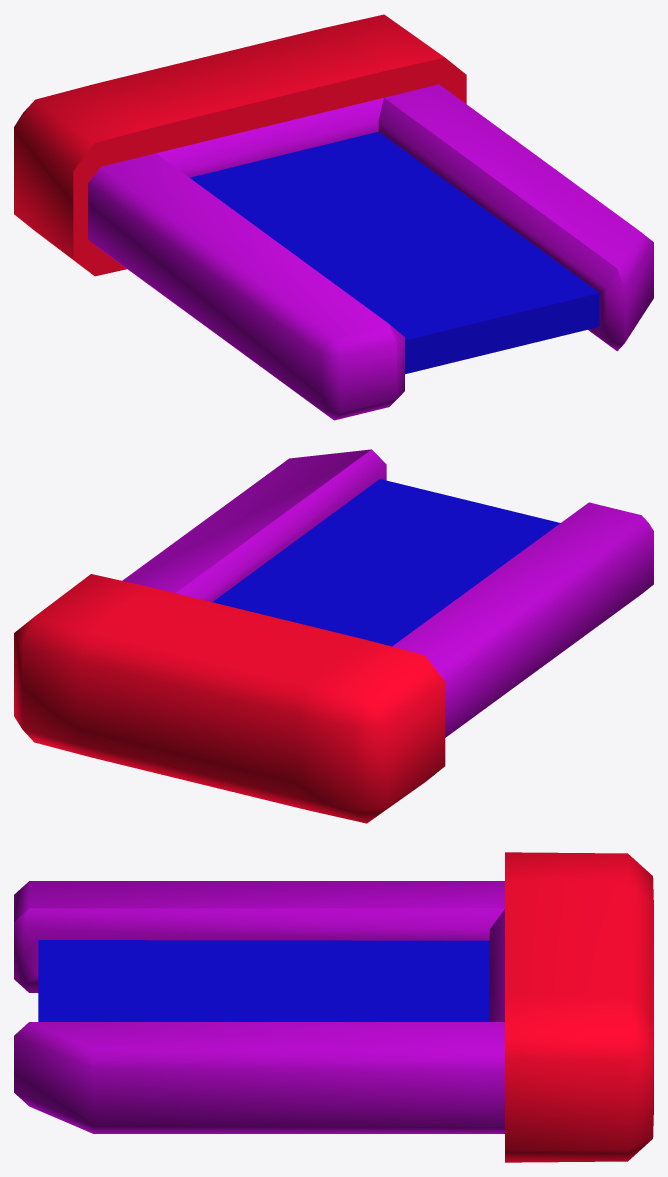
The model's file is KeyCard.fbx.
3 views of the same model, one above another, from view 1: azimuth 30°, elevation 25°; view 2: azimuth 150°, elevation 25°; view 3: azimuth 270°, elevation 25° (orthographic). The views are drawn at different scales.
Parts seen in each view (by area): view 1: Cube; view 2: Cube; view 3: Cube.
Part boxes in pixels (x1=…): Cube: x1=14, y1=14, x2=653, y2=420; Cube: x1=14, y1=449, x2=653, y2=823; Cube: x1=14, y1=852, x2=653, y2=1162.
Size of the model in its own units: 61.25 by 20.23 by 84.68.
